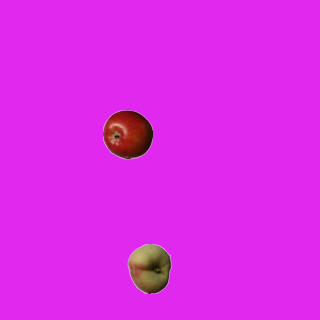Apple Braeburn: (102, 109, 152, 159)
Peach Flat: (124, 243, 174, 293)
